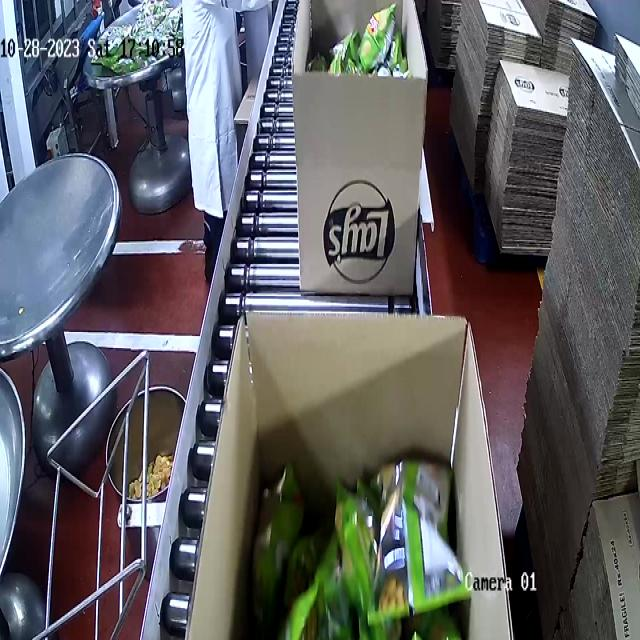YOGURT_HERB: (256, 428, 469, 640), (302, 8, 418, 73)
